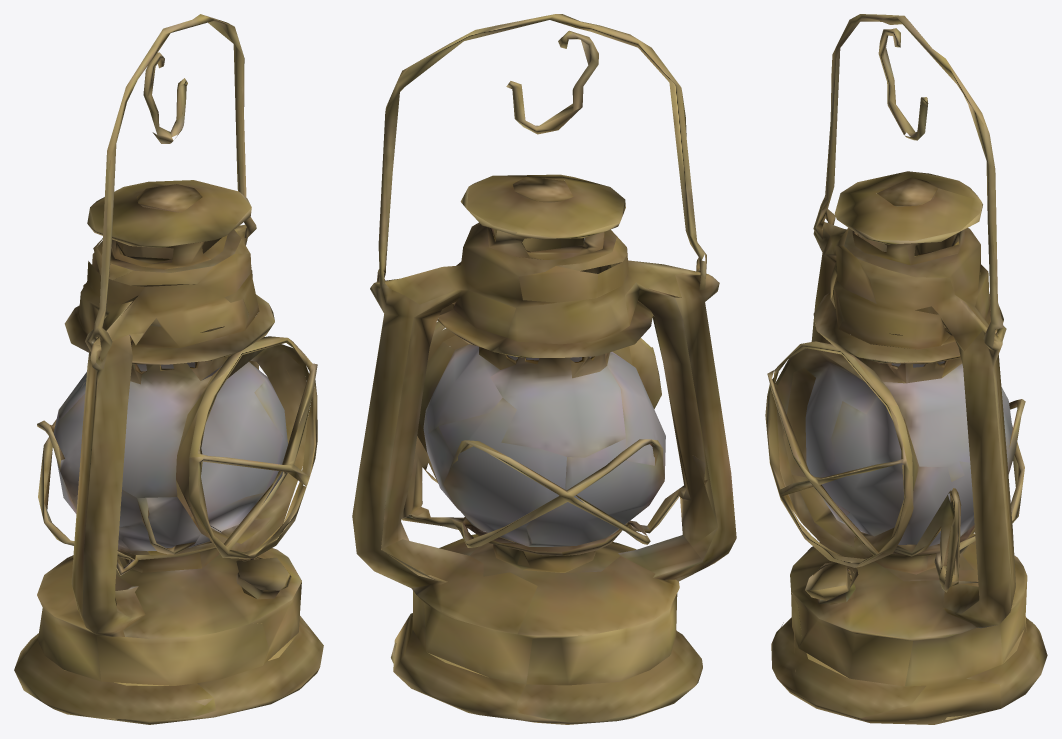
The model's file is carburo.movil.glb.
3 renders of one model, left to right at view 1: azimuth 30°, elevation 25°; view 2: azimuth 150°, elevation 25°; view 3: azimuth 270°, elevation 25°, orthographic.
Parts seen in each view (by area): view 1: geometry_0; view 2: geometry_0; view 3: geometry_0.
Boxes of the visible parts, x1=… form: geometry_0: x1=14, y1=14, x2=323, y2=724; geometry_0: x1=352, y1=14, x2=736, y2=724; geometry_0: x1=765, y1=14, x2=1047, y2=724.
Bounding box in the file's own units: 0.1393 × 0.2999 × 0.1198.
1 material, 1 textured.
